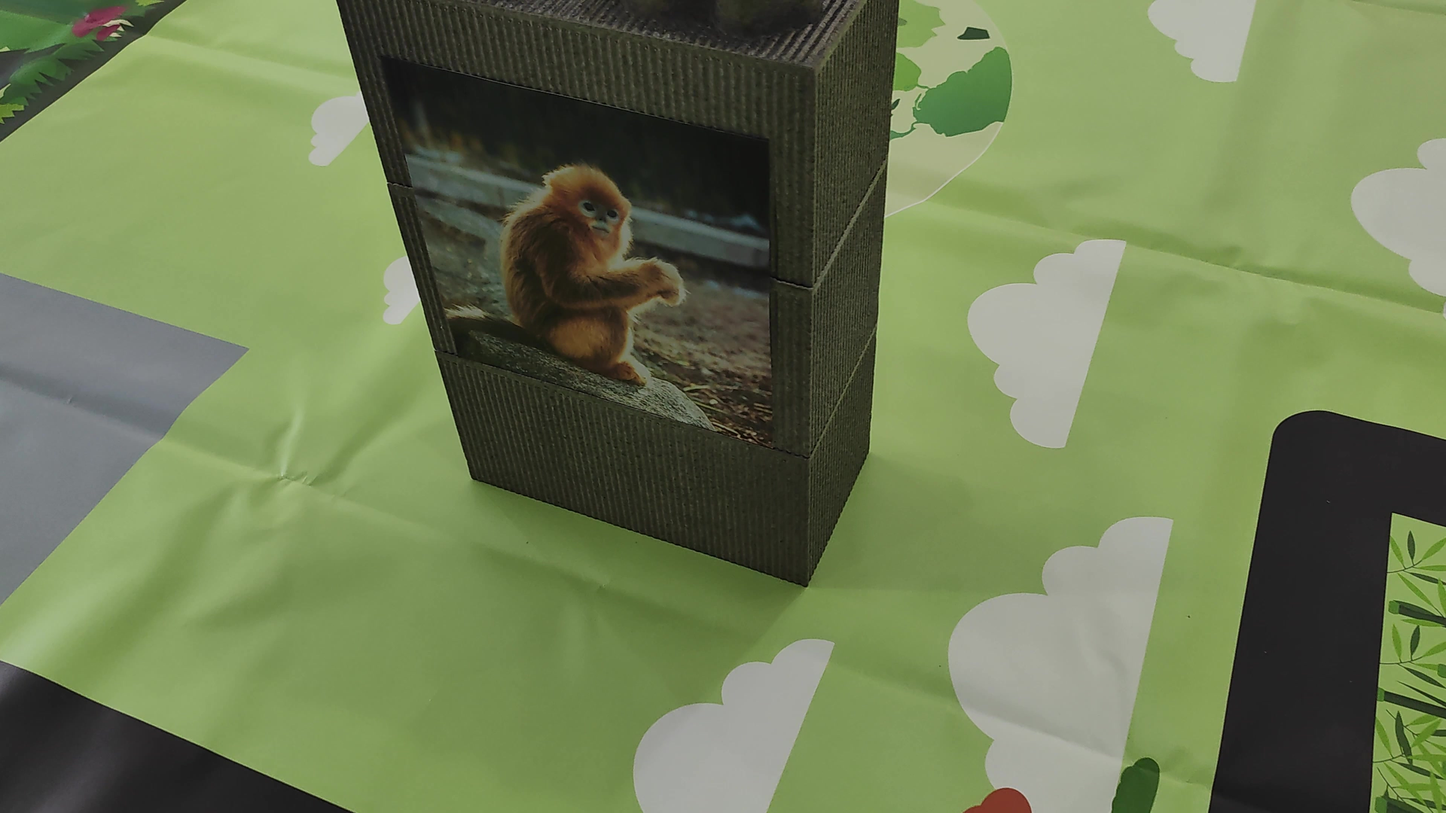monkey: (442, 97, 771, 406)
